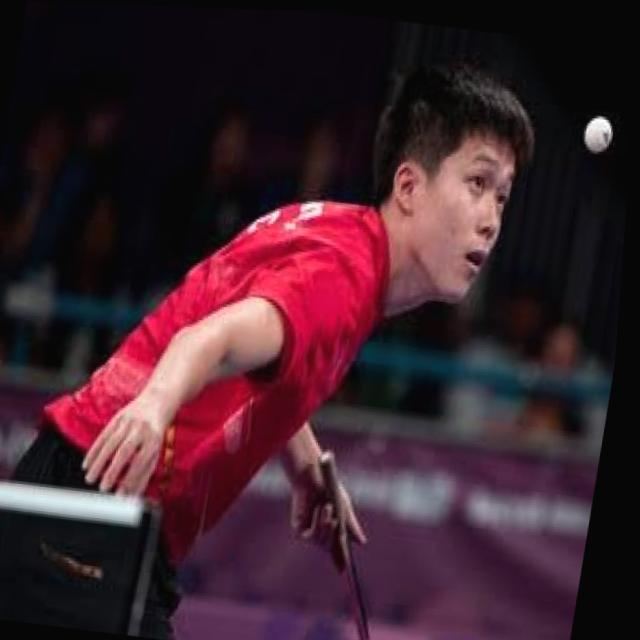TT Net: (0, 475, 169, 634)
TT Racket: (334, 516, 375, 640)
